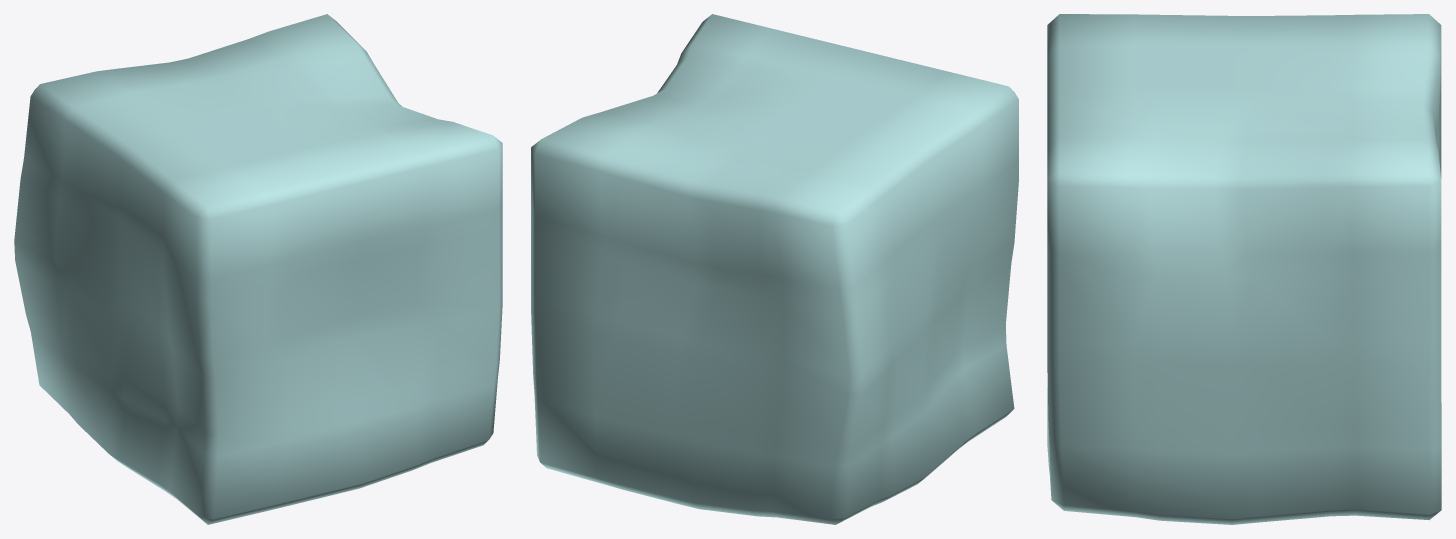
File: icecube.fbx
The picture shows the model from 3 angles, left to right: view 1: azimuth 30°, elevation 25°; view 2: azimuth 150°, elevation 25°; view 3: azimuth 270°, elevation 25°; orthographic projection. The views are drawn at different scales.
Parts seen in each view (by area): view 1: Cube; view 2: Cube; view 3: Cube.
Part boxes in pixels (x1,y1,x2,y2): Cube: (14,14,502,524); Cube: (531,14,1018,524); Cube: (1047,14,1441,524).
Bounding box in the file's own units: 4.21 × 4 × 4.
